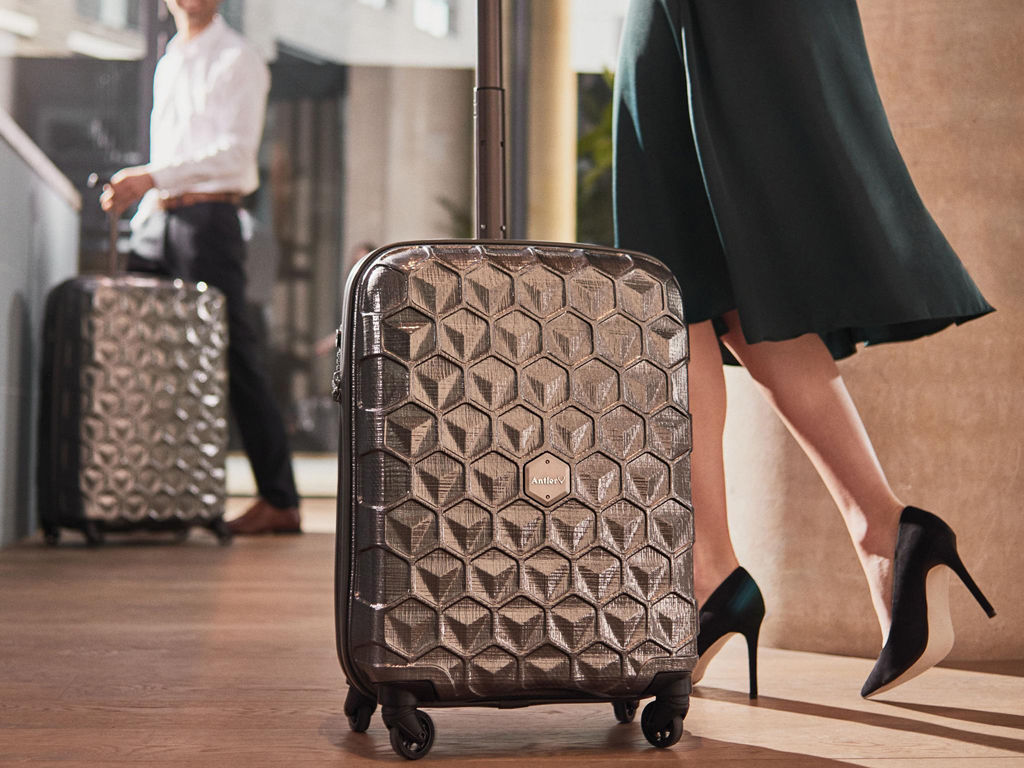luggage: (345, 199, 690, 759), (36, 268, 233, 547)
